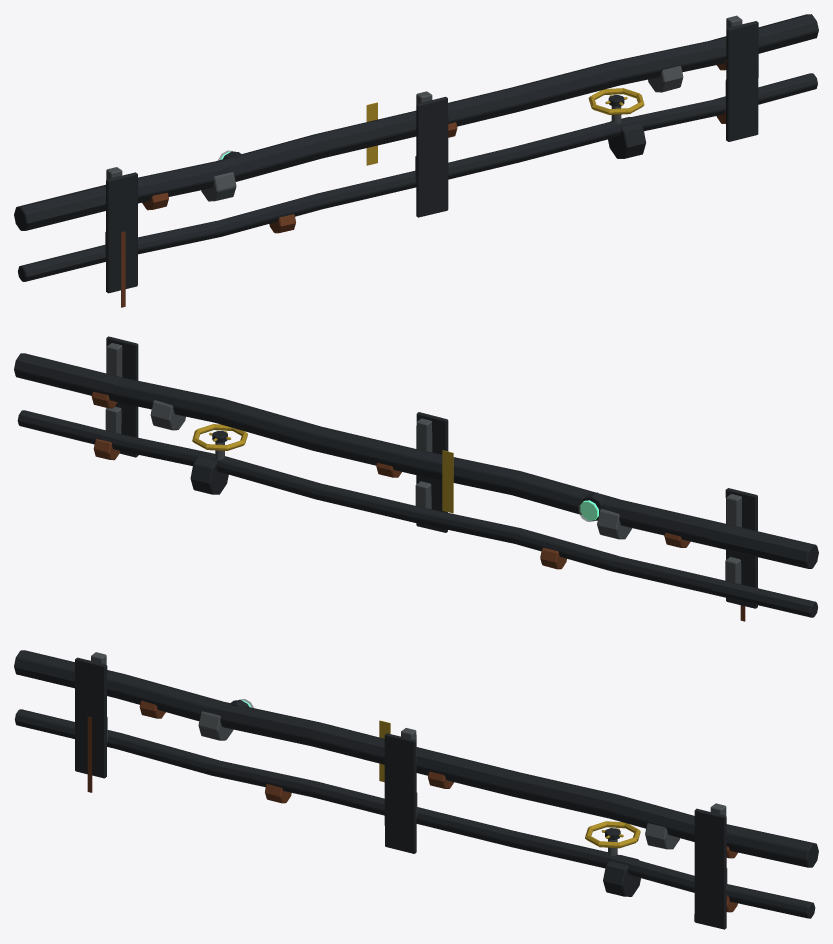
File: wall_pipes_small.glb
The picture shows the model from 3 angles, top to bottom: view 1: azimuth 30°, elevation 25°; view 2: azimuth 150°, elevation 25°; view 3: azimuth 330°, elevation 25°; orthographic projection.
Parts seen in each view (by area): view 1: wall_pipes_small; view 2: wall_pipes_small; view 3: wall_pipes_small.
Boxes of the visible parts, x1=… form: wall_pipes_small: x1=14, y1=14, x2=818, y2=307; wall_pipes_small: x1=14, y1=336, x2=818, y2=621; wall_pipes_small: x1=14, y1=650, x2=818, y2=929.
Bounding box in the file's own units: 2.2 × 0.3473 × 0.1426.
